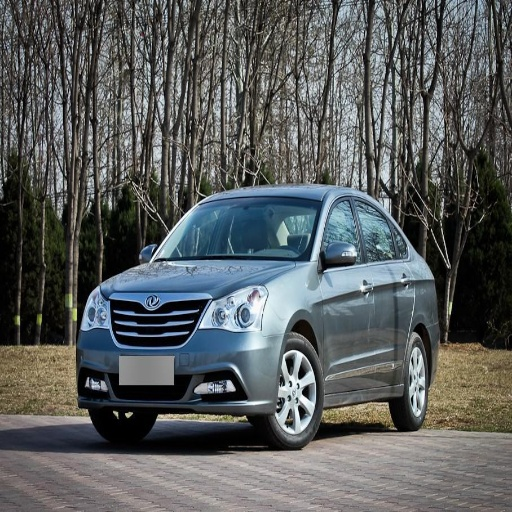front_bumper: (77, 292, 283, 417)
front_glass: (150, 196, 321, 261)
front_left_door: (318, 194, 373, 389)
